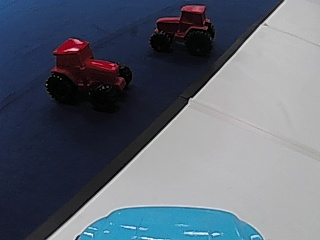Tracktor: (42, 36, 135, 109), (150, 4, 216, 55)
